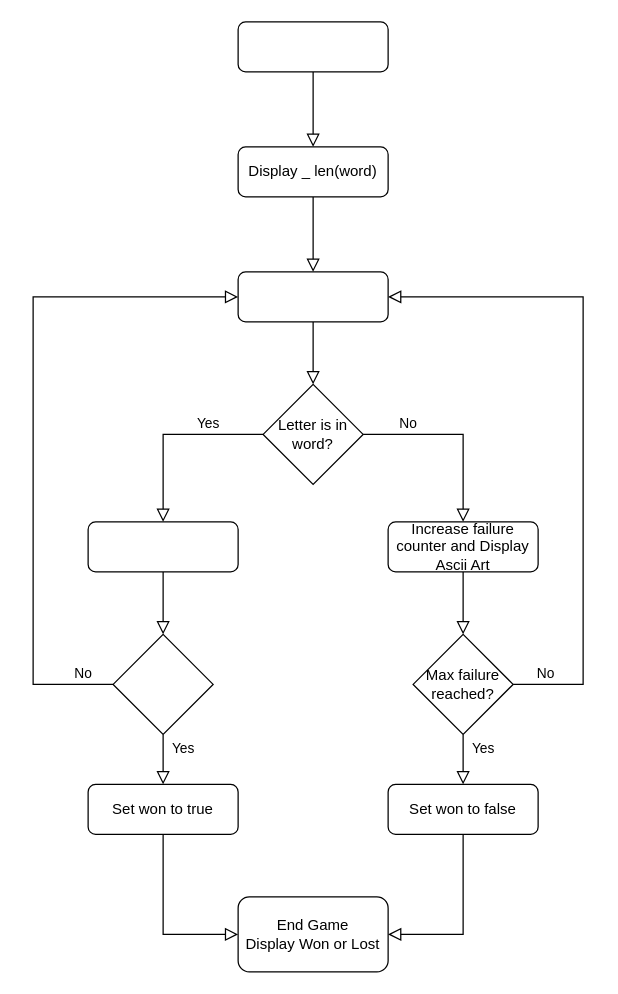
This 618x994 diagram has some shape labels left out. Each missing label, with the box of its shape:
All letters found?: (112, 633, 213, 734)
Display letter in _ at correct position for all occurences: (87, 521, 238, 572)
Generate a random word: (237, 21, 388, 72)
Let a user pick a letter: (237, 271, 388, 322)
